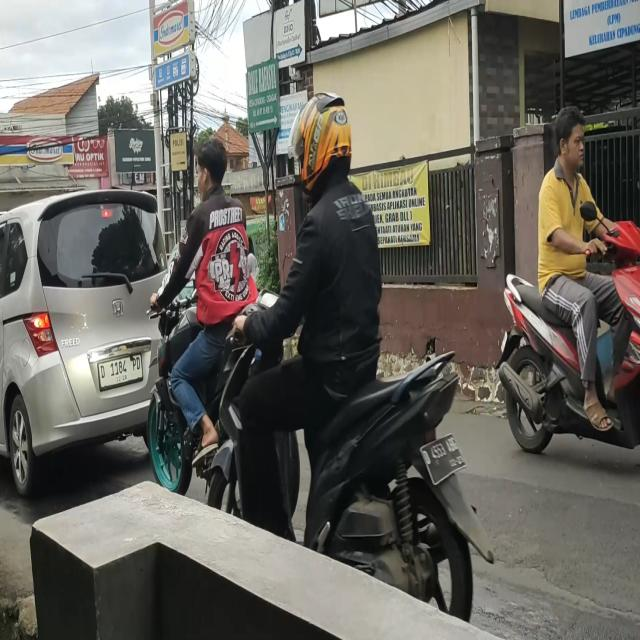helmet: (294, 93, 350, 186)
no-helmet: (558, 108, 586, 169), (198, 138, 223, 196)
